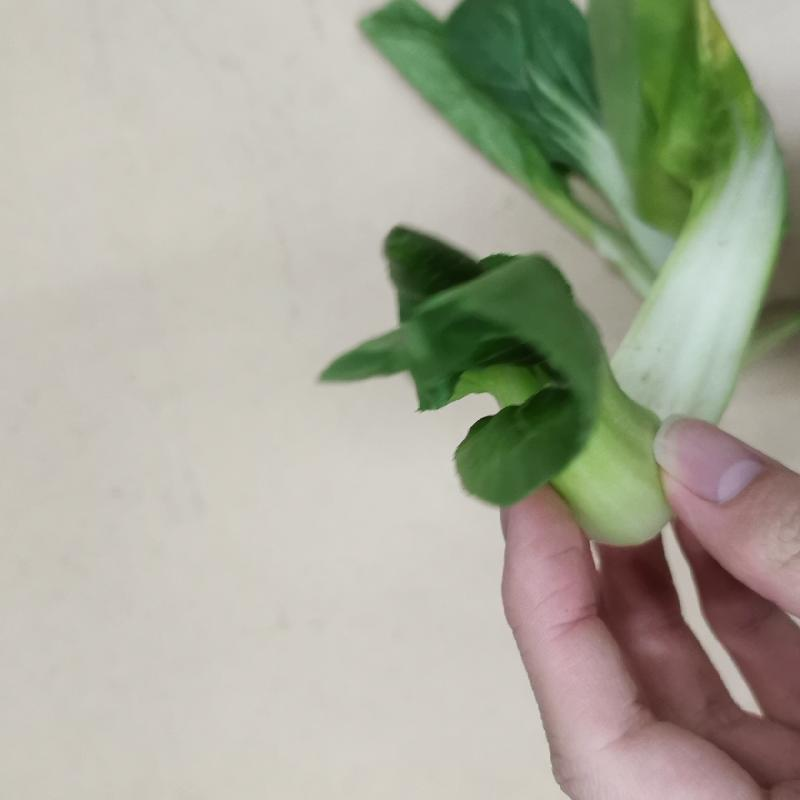green vegatable: (319, 0, 791, 547)
